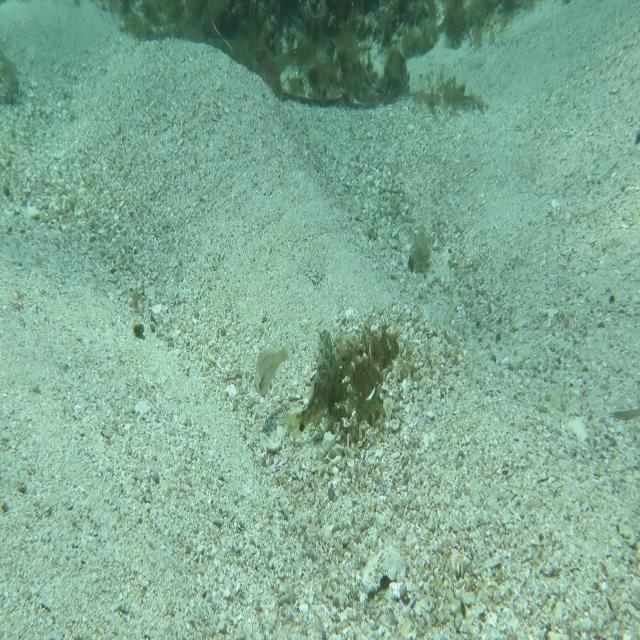BEND: (280, 321, 339, 449)
female: (247, 332, 295, 404)
nest: (296, 310, 409, 442)
vegetation: (110, 0, 516, 45), (236, 50, 415, 107), (405, 226, 433, 279)
